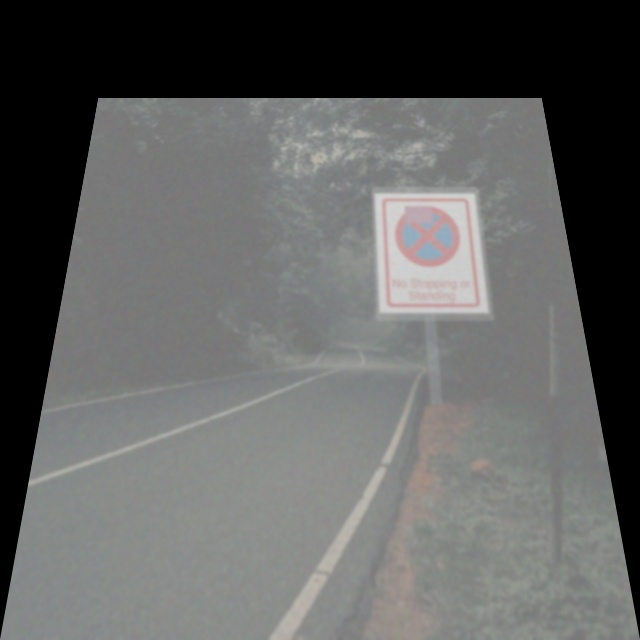No_Stopping_or_Standing: (386, 201, 472, 275)
